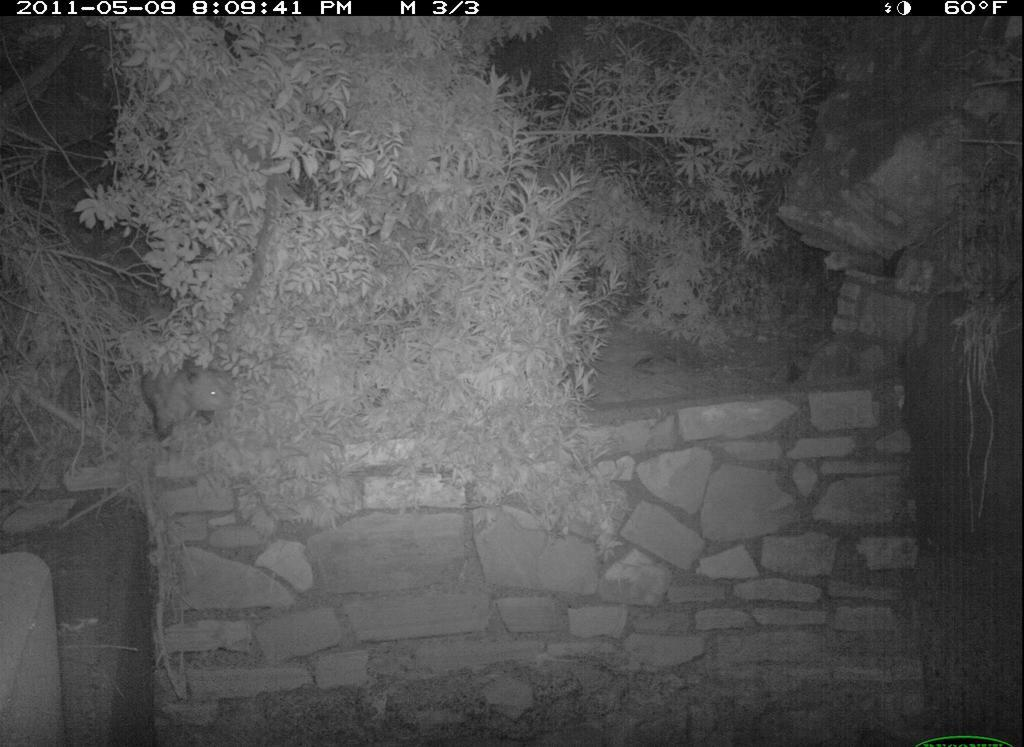opossum: (134, 341, 233, 451)
